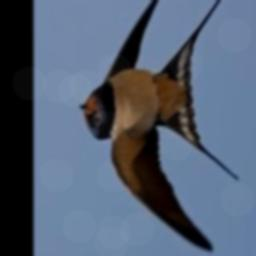Swallow: (80, 0, 238, 253)
